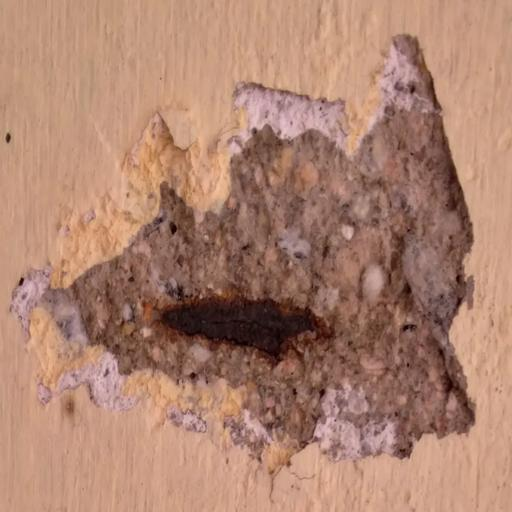spalling: (44, 24, 491, 462)
